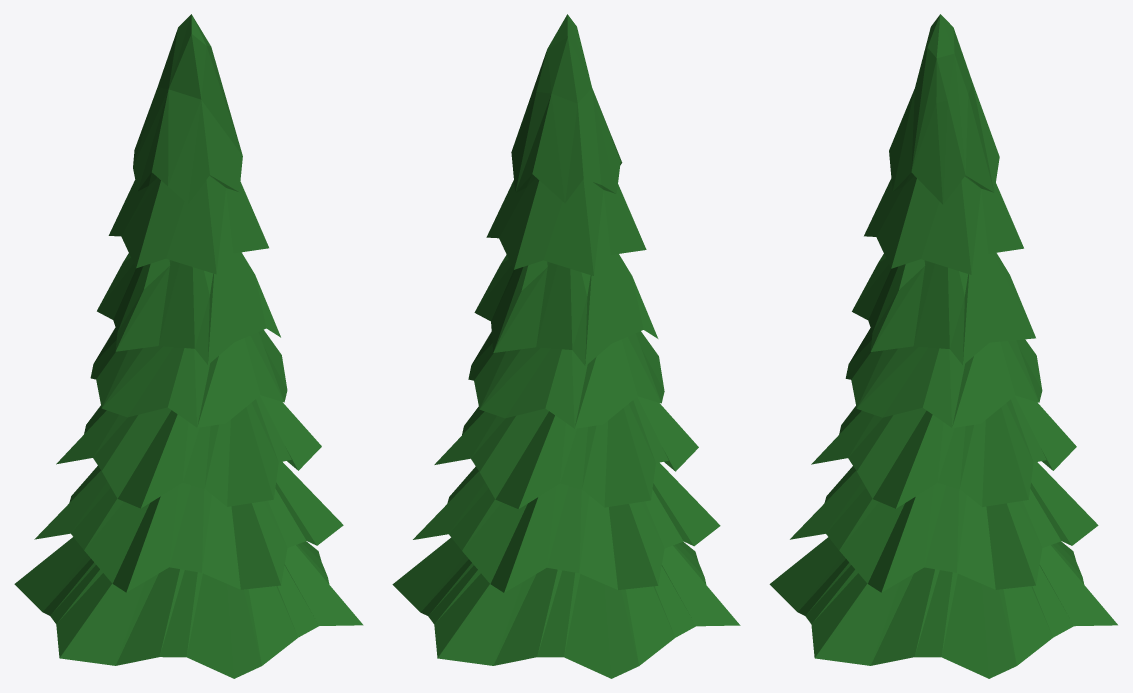
Rendered from PineTree_03.fbx.
3 renders of one model, left to right at view 1: azimuth 30°, elevation 25°; view 2: azimuth 150°, elevation 25°; view 3: azimuth 270°, elevation 25°, orthographic.
Visible parts, largest first — view 1: PineTree_03; view 2: PineTree_03; view 3: PineTree_03.
Part boxes in pixels (bbox=[...]): PineTree_03: bbox=[14, 14, 363, 678]; PineTree_03: bbox=[392, 14, 740, 678]; PineTree_03: bbox=[769, 14, 1117, 678].
Bounding box in the file's own units: 13.63 × 25.66 × 13.56.
